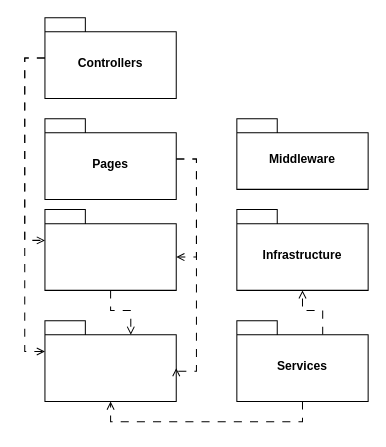
The diagram is 386 pixels wide and 447 high, and some of its shapes have lost their labels. The box of each missing label's shape, as (x1, y1, x2, y2) in pixels:
Data: (44, 209, 176, 290)
Models: (44, 320, 176, 401)
